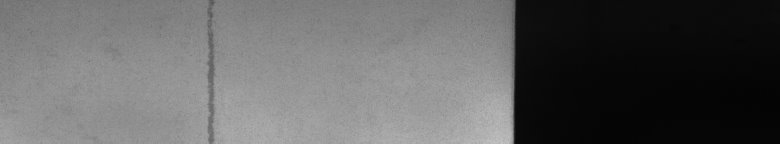hd: (204, 4, 219, 136)
